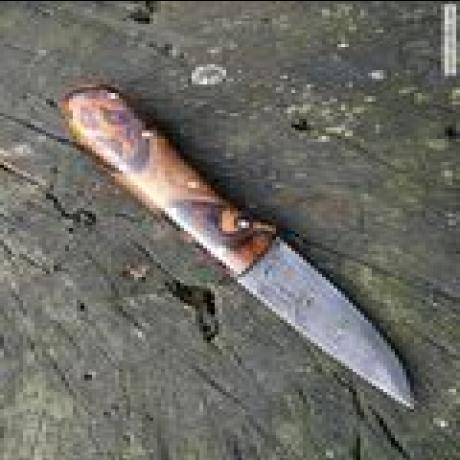weapon: (59, 86, 427, 412)
